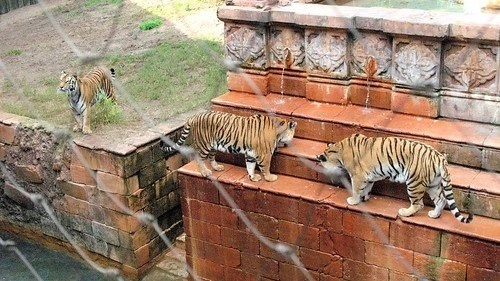tigre: (314, 132, 478, 228), (169, 107, 299, 184), (57, 62, 124, 137)
